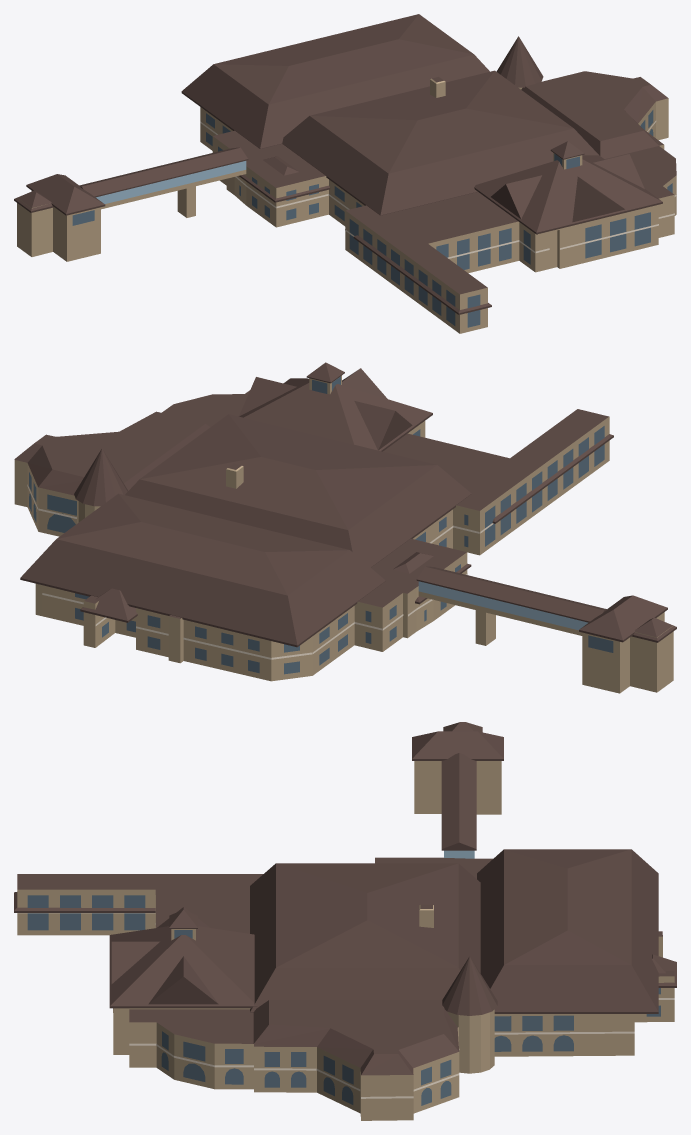
The model's file is niagara-table-rock-centre.glb.
3 renders of one model, top to bottom at view 1: azimuth 30°, elevation 25°; view 2: azimuth 150°, elevation 25°; view 3: azimuth 270°, elevation 25°, orthographic. The views are drawn at different scales.
Visible parts, largest first — view 1: Table Rock Centre; view 2: Table Rock Centre; view 3: Table Rock Centre.
Part boxes in pixels (x1,y1,x2,y2): Table Rock Centre: (14,14,676,333); Table Rock Centre: (14,362,676,693); Table Rock Centre: (14,722,676,1120).
Bounding box in the file's own units: 131 × 20 × 108.
